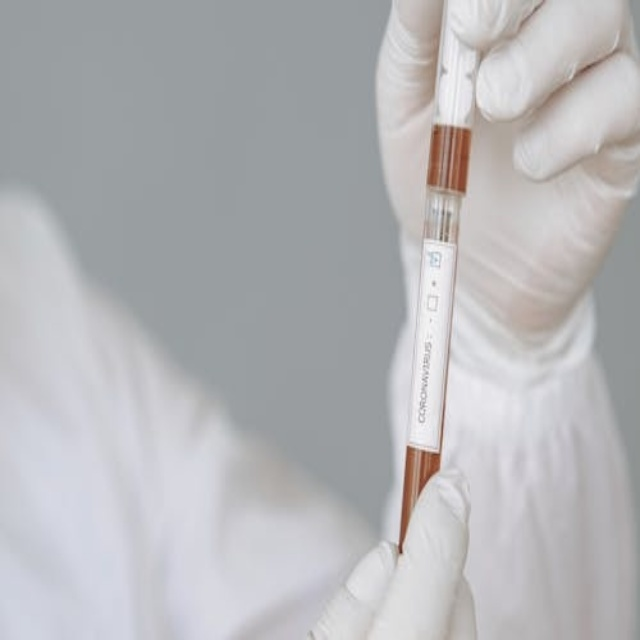Guantes: (373, 0, 640, 353), (300, 464, 480, 640)
